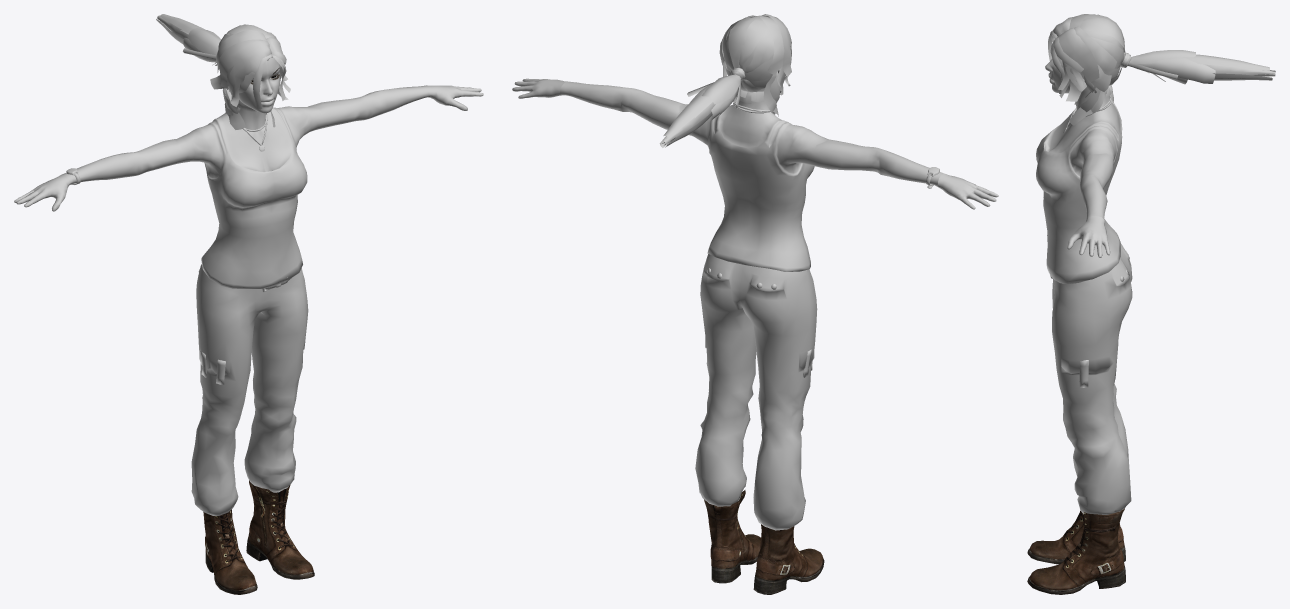
Rendered from Lara_Croft_v1.obj.
3 renders of one model, left to right at view 1: azimuth 30°, elevation 25°; view 2: azimuth 150°, elevation 25°; view 3: azimuth 270°, elevation 25°, orthographic. The views are drawn at different scales.
Parts seen in each view (by area): view 1: Lara_Hands; view 2: Lara_Hands; view 3: Lara_Hands.
Boxes of the visible parts, <box> form: Lara_Hands: <box>14,14,483,594</box>; Lara_Hands: <box>512,14,998,594</box>; Lara_Hands: <box>1027,14,1275,594</box>.
Size of the model in its own units: 3 by 3.34 by 1.35.
